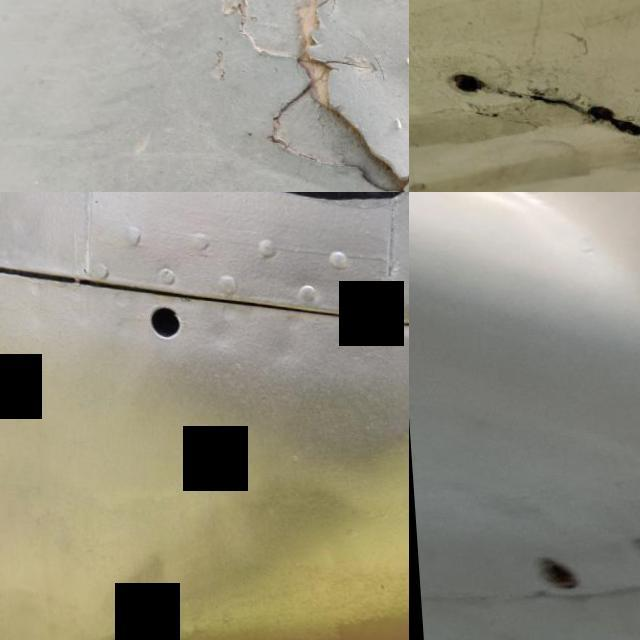Crack: (200, 0, 409, 192), (417, 37, 640, 178)
Missing_Fastener: (120, 268, 208, 362), (527, 555, 574, 588)
